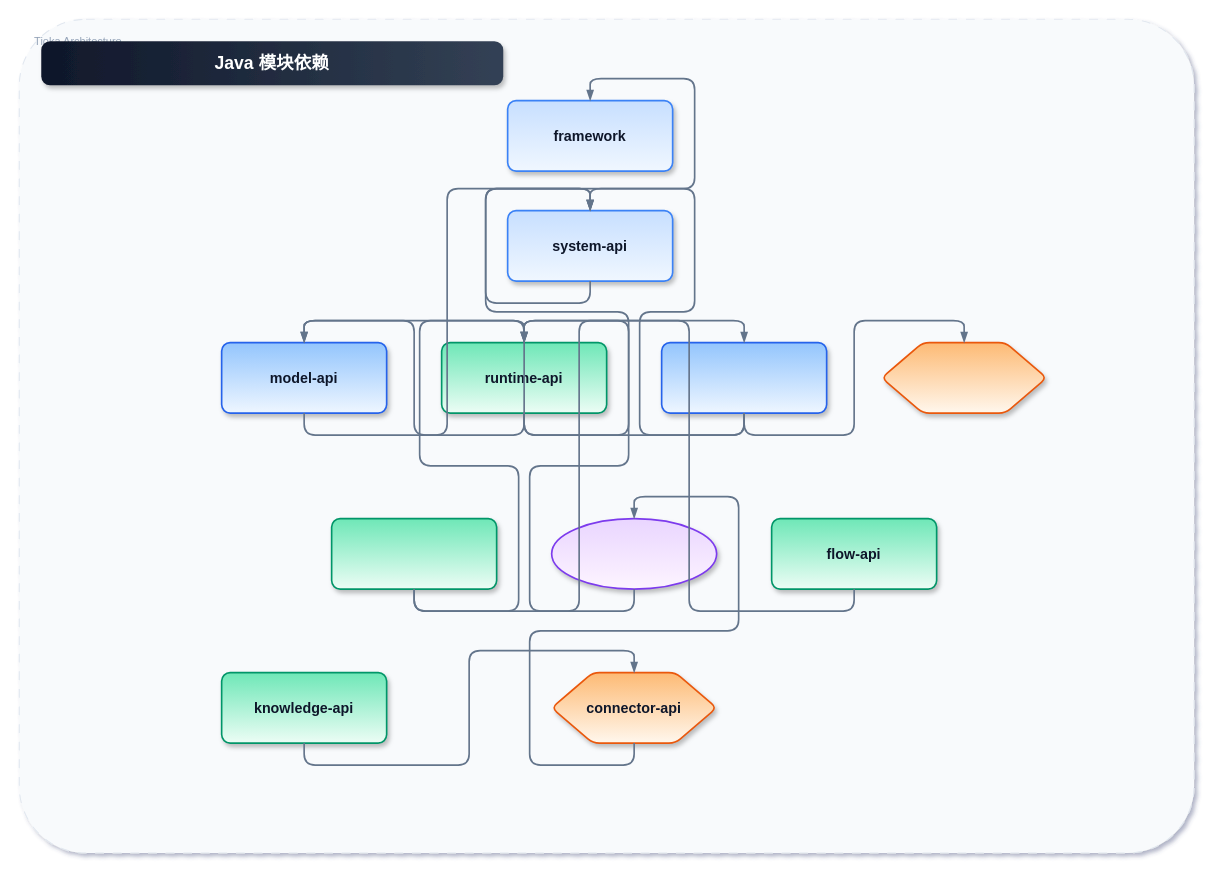
The diagram is 1220 pixels wide and 879 high, and some of its shapes have lost their labels. The shapes that lost their labels are listed below. From the top down, each one's centre as x and y in pixels, then its label:
At point (745, 379): "agent-api".
At point (965, 379): "mcp-api".
At point (415, 555): "chat-api".
At point (635, 555): "orch-api".
